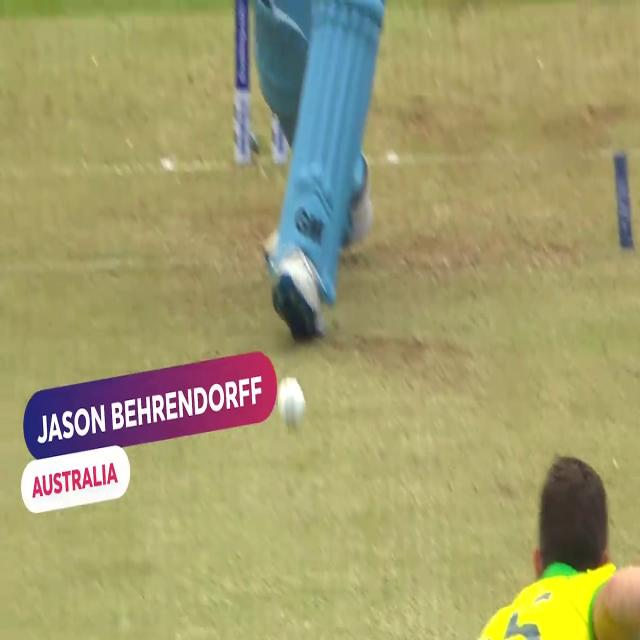ball: (275, 366, 309, 444)
